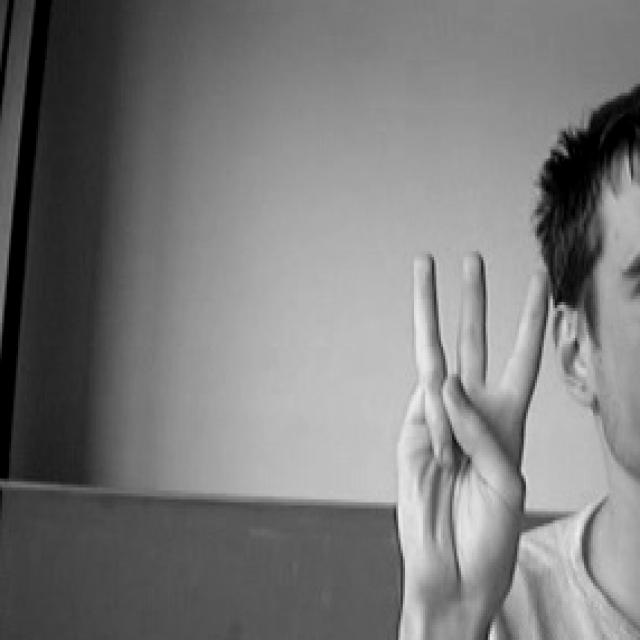W: (368, 236, 577, 607)
